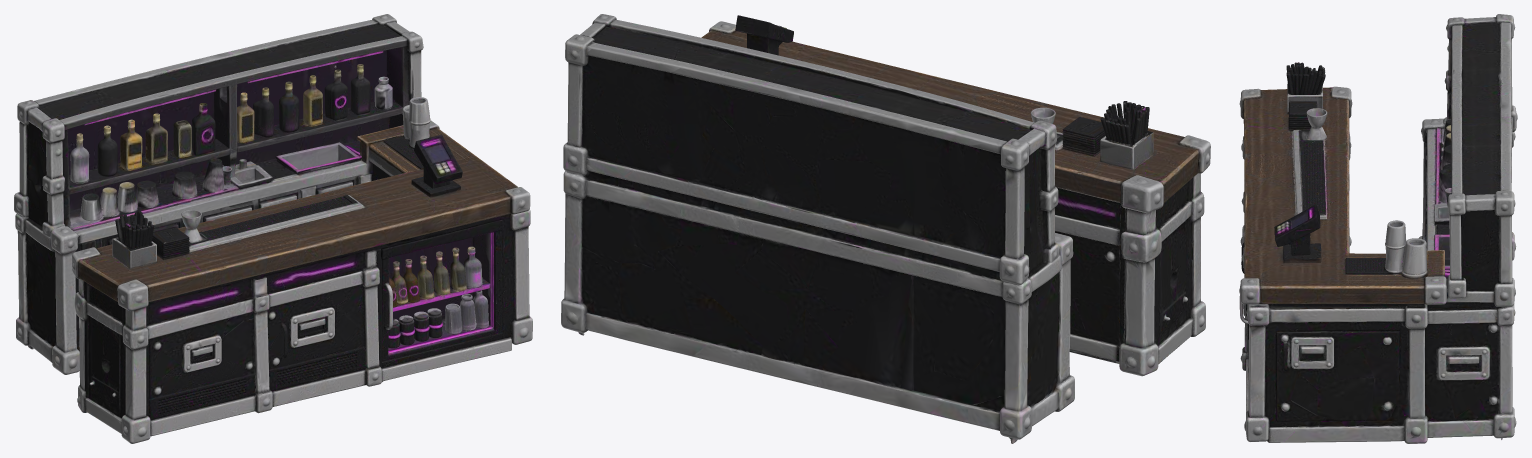
The model's file is bar_new_opt.glb.
3 renders of one model, left to right at view 1: azimuth 30°, elevation 25°; view 2: azimuth 150°, elevation 25°; view 3: azimuth 270°, elevation 25°, orthographic. The views are drawn at different scales.
Bounding box in the file's own units: 1.9 × 1.08 × 1.09.
Materials: 1 (1 with a texture image).
